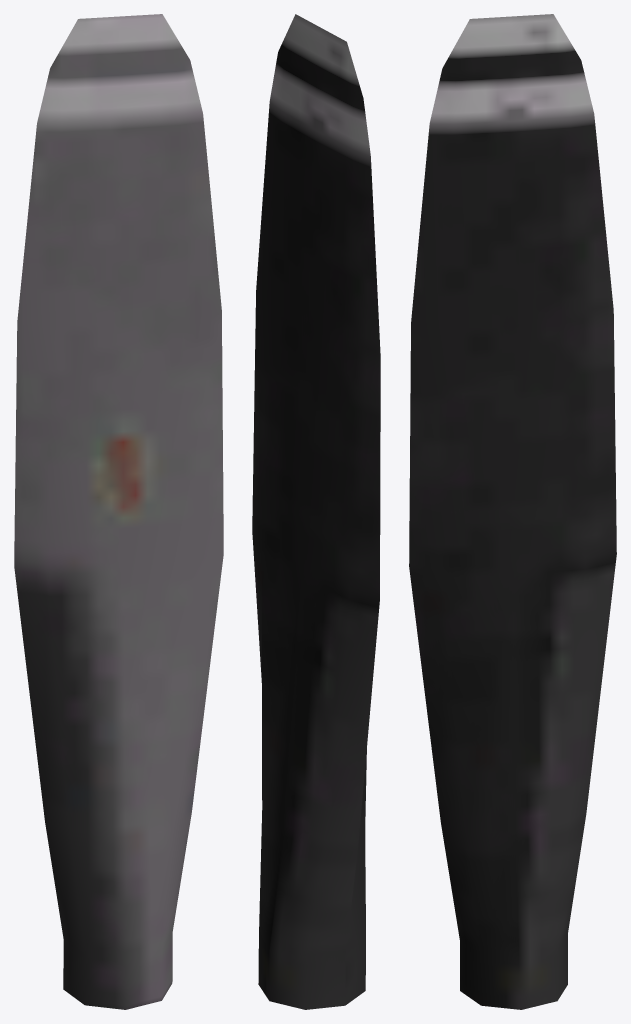
Rendered from a29b_blade.FBX.
3 renders of one model, left to right at view 1: azimuth 90°, elevation 25°; view 2: azimuth 210°, elevation 25°; view 3: azimuth 270°, elevation 25°, orthographic.
Visible parts, largest first — view 1: Helice; view 2: Helice; view 3: Helice.
Part boxes in pixels (x1,y1,x2,y2): Helice: [14, 14, 223, 1009]; Helice: [252, 14, 380, 1009]; Helice: [409, 14, 616, 1009].
Bounding box in the file's own units: 0.0987 × 0.9686 × 0.1886.
